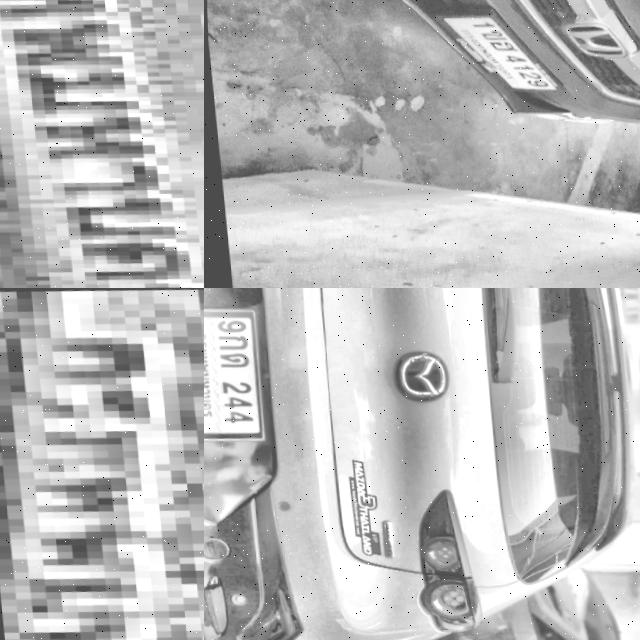license-plate: (0, 288, 204, 640), (0, 0, 204, 288), (425, 0, 560, 99), (204, 303, 263, 442)
